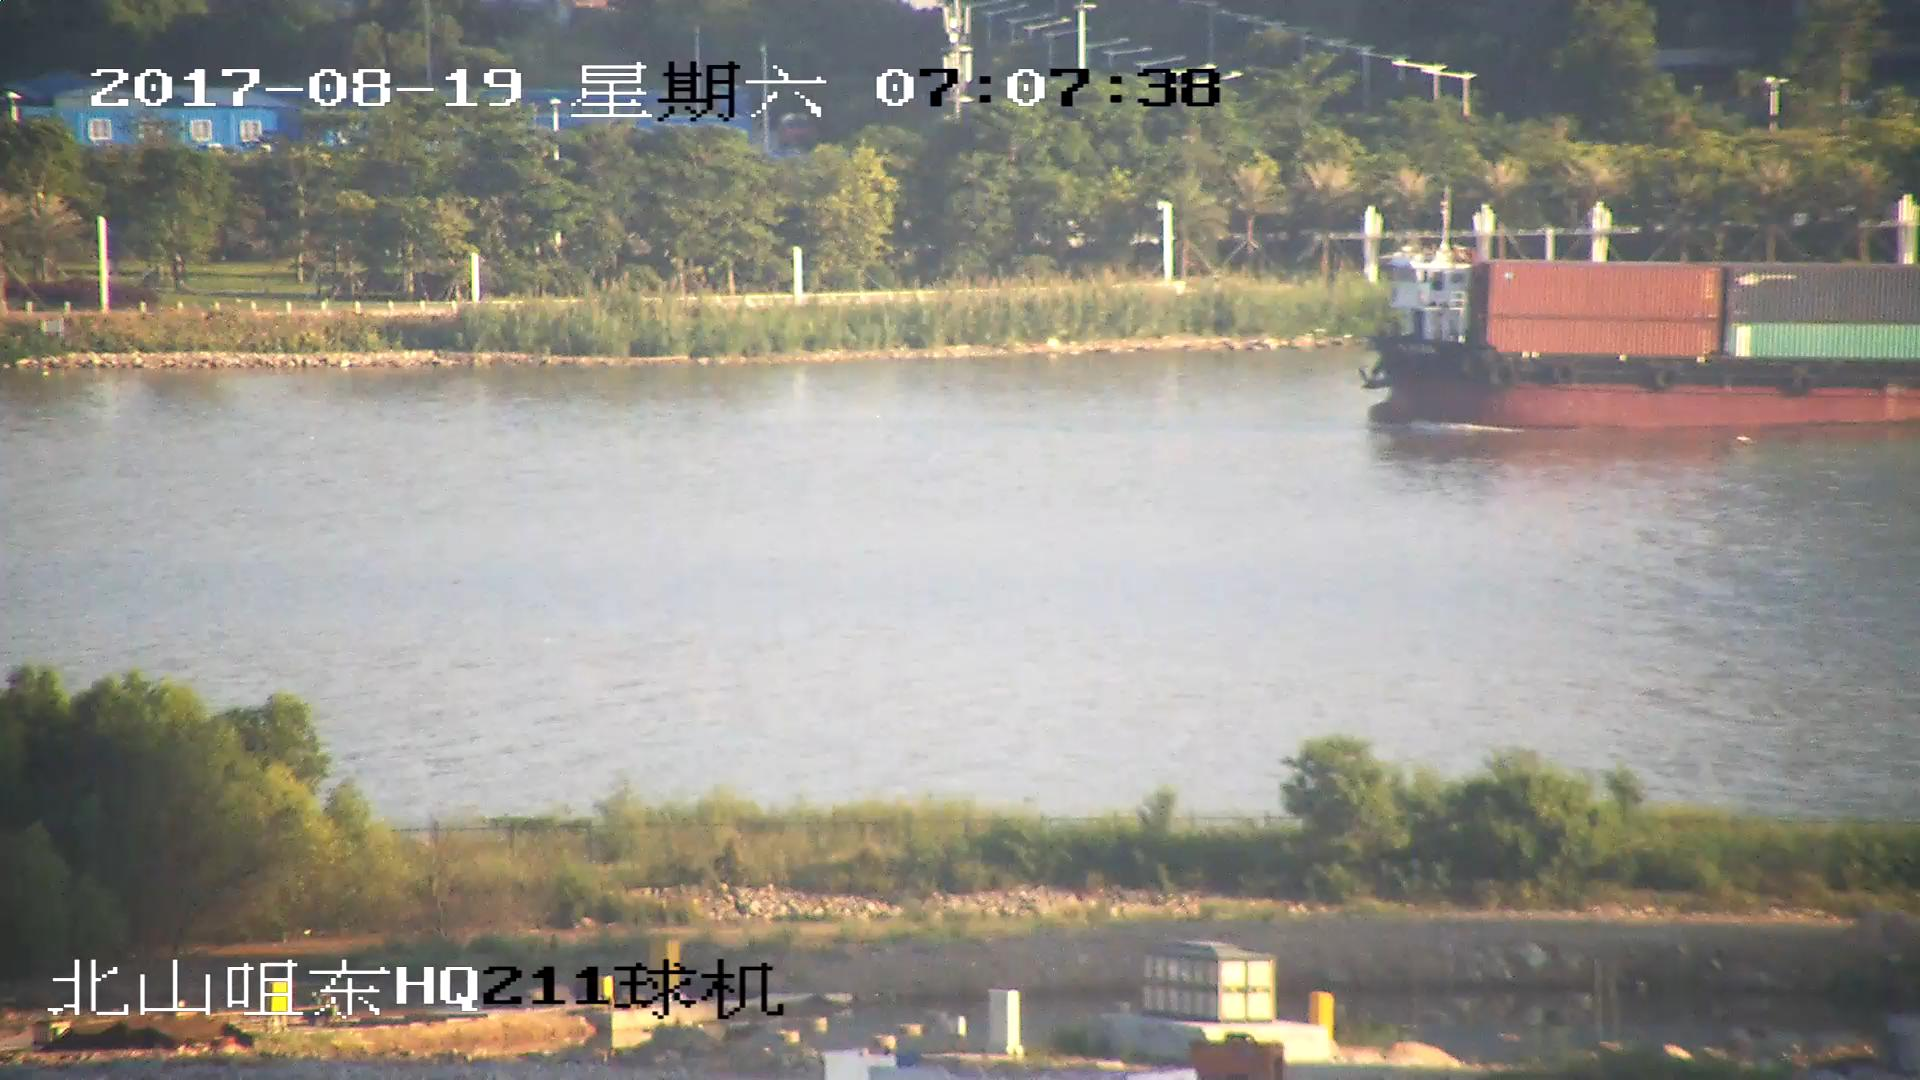container ship: (1356, 197, 1920, 436)
